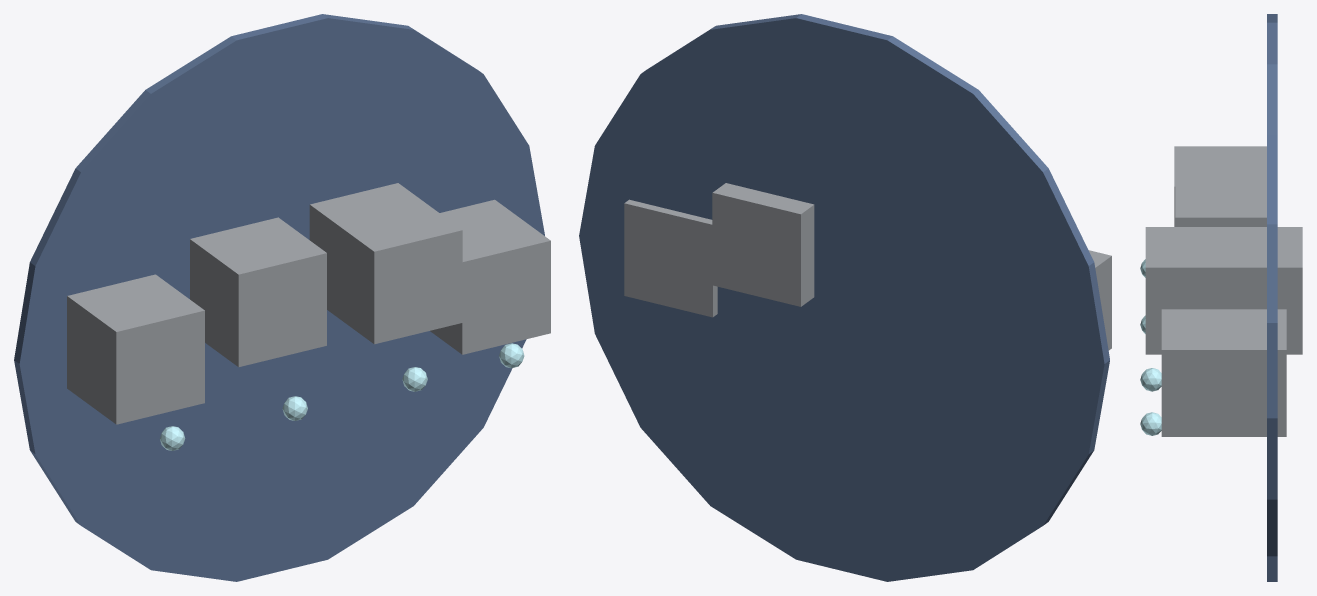
The model's file is 02_display_prop_cluster.glb.
The picture shows the model from 3 angles, left to right: view 1: azimuth 30°, elevation 25°; view 2: azimuth 150°, elevation 25°; view 3: azimuth 270°, elevation 25°; orthographic projection. The views are drawn at different scales.
Parts seen in each view (by area): view 1: scatter_base, tech_crate_2, tech_crate_0, tech_crate_1, tech_crate_3; view 2: scatter_base, tech_crate_2, tech_crate_3, tech_crate_0; view 3: tech_crate_3, tech_crate_2, scatter_base, tech_crate_1, tech_crate_0, status_light_2, status_light_3.
Part boxes in pixels (x1=…): scatter_base: x1=14, y1=14, x2=544, y2=581; tech_crate_2: x1=309, y1=183, x2=462, y2=344; tech_crate_0: x1=67, y1=274, x2=204, y2=424; tech_crate_1: x1=190, y1=217, x2=326, y2=367; tech_crate_3: x1=430, y1=199, x2=550, y2=354; scatter_base: x1=579, y1=14, x2=1109, y2=581; tech_crate_2: x1=712, y1=183, x2=814, y2=306; tech_crate_3: x1=624, y1=199, x2=717, y2=317; tech_crate_0: x1=1088, y1=250, x2=1111, y2=350; tech_crate_3: x1=1161, y1=309, x2=1286, y2=436; tech_crate_2: x1=1145, y1=227, x2=1302, y2=354; scatter_base: x1=1267, y1=14, x2=1277, y2=581; tech_crate_1: x1=1175, y1=177, x2=1266, y2=226; tech_crate_0: x1=1174, y1=146, x2=1266, y2=226; status_light_2: x1=1140, y1=368, x2=1161, y2=391; status_light_3: x1=1140, y1=412, x2=1161, y2=435.
Size of the model in its own units: 1.9 by 1.87 by 0.5417.
